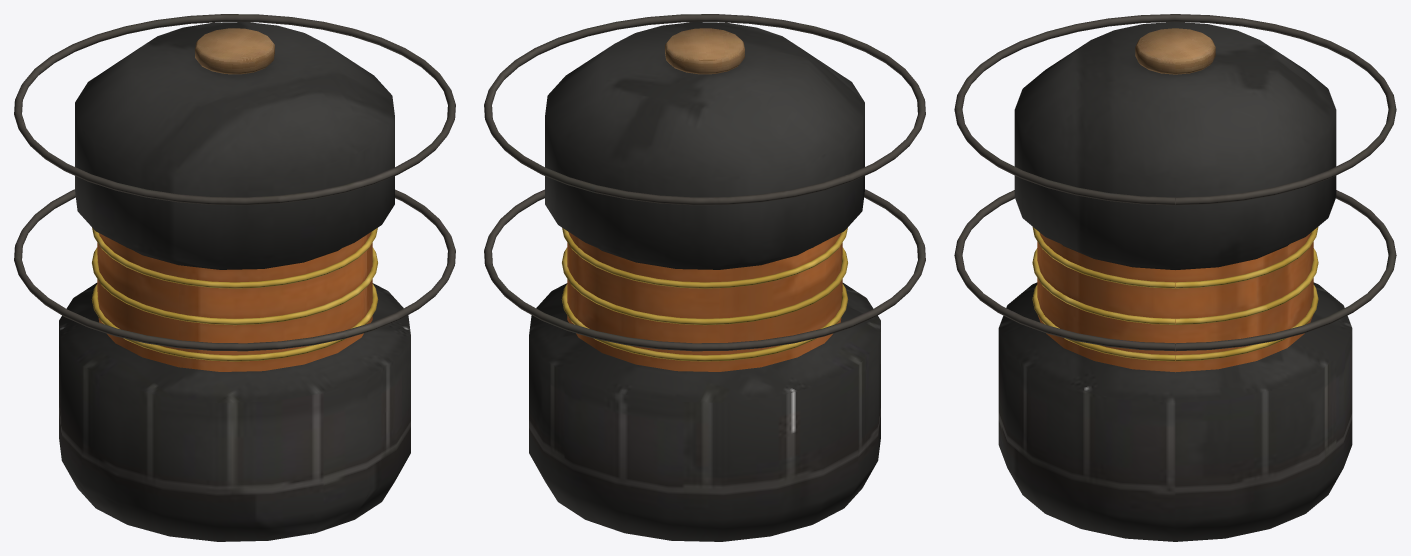
File: stove_round.glb
The picture shows the model from 3 angles, left to right: view 1: azimuth 30°, elevation 25°; view 2: azimuth 150°, elevation 25°; view 3: azimuth 270°, elevation 25°; orthographic projection.
Visible parts, largest first — view 1: prop_stove_round_felt, prop_stove_round_felt_heat, prop_stove_round_fire, prop_stove_round_wood; view 2: prop_stove_round_felt, prop_stove_round_felt_heat, prop_stove_round_fire, prop_stove_round_wood; view 3: prop_stove_round_felt, prop_stove_round_felt_heat, prop_stove_round_fire, prop_stove_round_wood.
Part boxes in pixels (x1,y1,x2,y2): prop_stove_round_felt: (14, 14, 455, 541); prop_stove_round_felt_heat: (97, 232, 372, 371); prop_stove_round_fire: (91, 227, 378, 361); prop_stove_round_wood: (195, 28, 274, 74); prop_stove_round_felt: (484, 14, 925, 541); prop_stove_round_felt_heat: (567, 232, 842, 371); prop_stove_round_fire: (561, 227, 848, 361); prop_stove_round_wood: (665, 28, 744, 74); prop_stove_round_felt: (954, 14, 1396, 541); prop_stove_round_felt_heat: (1037, 233, 1313, 372); prop_stove_round_fire: (1032, 226, 1318, 361); prop_stove_round_wood: (1135, 28, 1215, 74).
Size of the model in its own units: 1.1 by 1.18 by 1.1.
5 materials, 4 textured.
